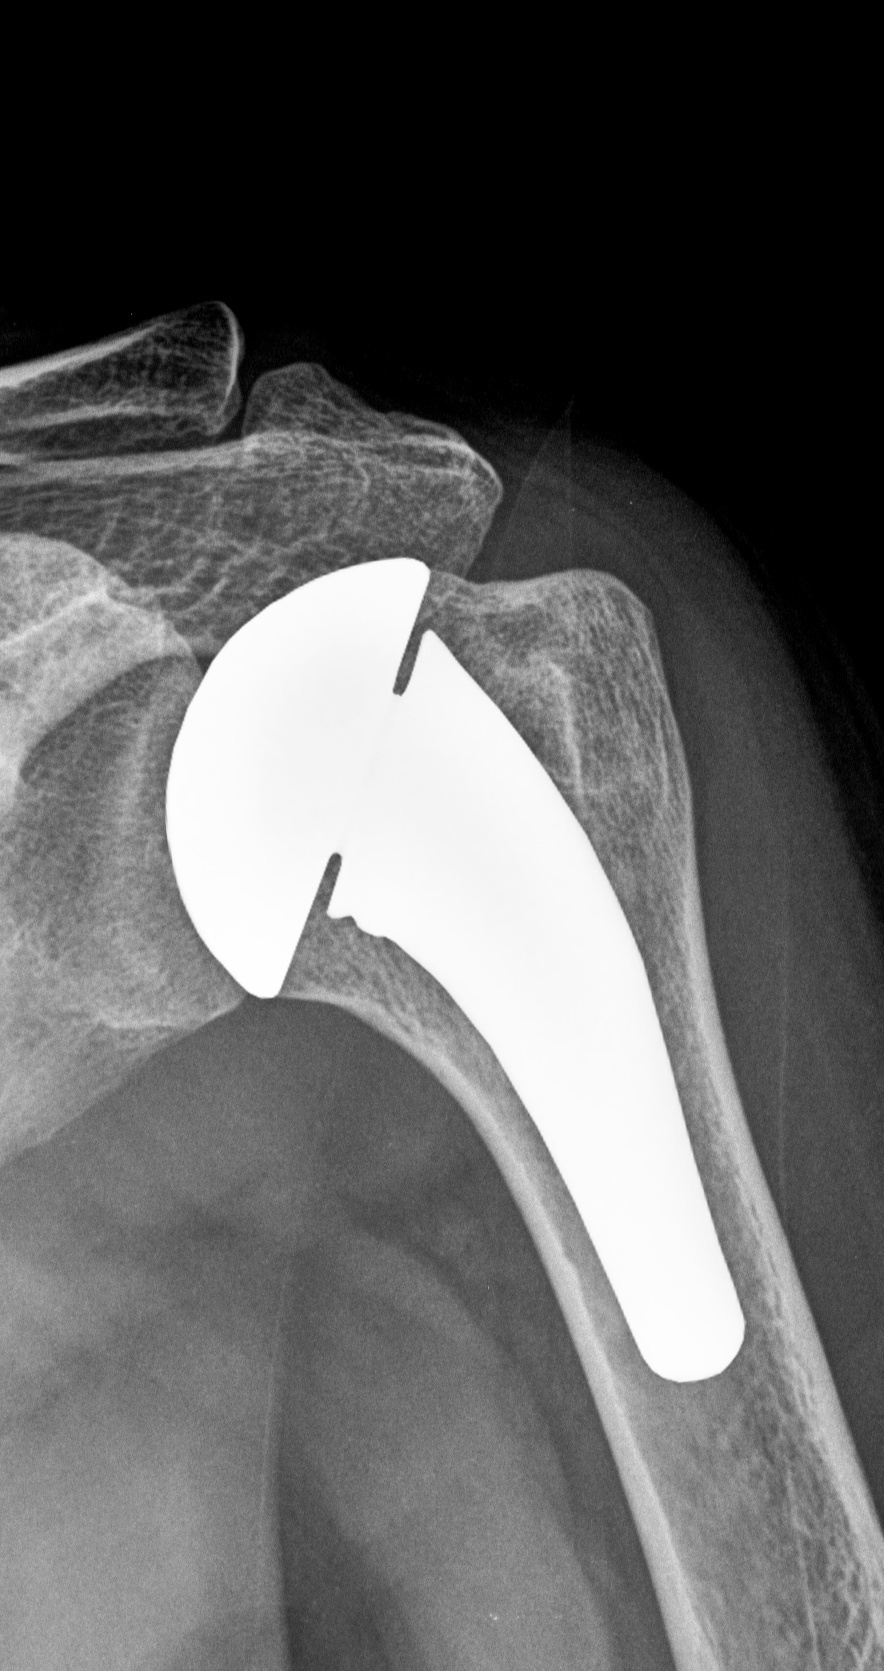Shoulder - AequalisAscendFlex - Tornier: (145, 522, 441, 1013)
